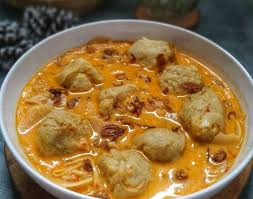bakso: (31, 38, 229, 191)
